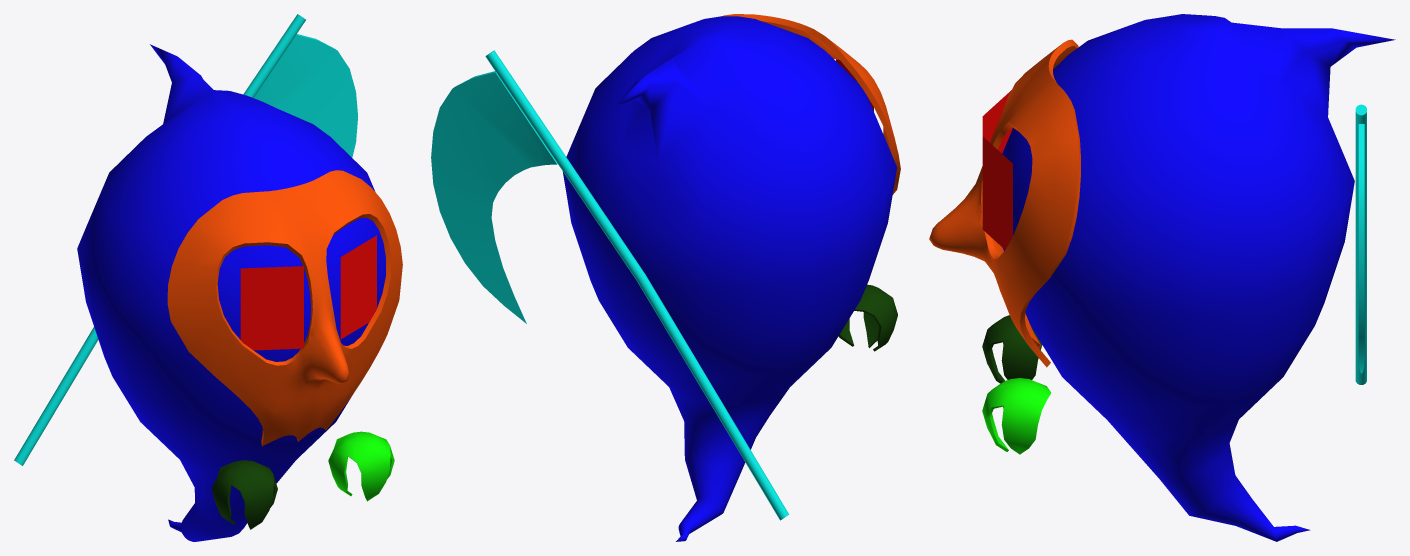
File: reaper_low.FBX
The picture shows the model from 3 angles, left to right: view 1: azimuth 30°, elevation 25°; view 2: azimuth 150°, elevation 25°; view 3: azimuth 270°, elevation 25°; orthographic projection. The views are drawn at different scales.
Parts seen in each view (by area): view 1: body_low, mask, sickle, eyes, right_low, left_low; view 2: body_low, sickle, mask, right_low; view 3: body_low, mask, eyes, left_low, sickle, right_low.
Boxes of the visible parts, bbox=[...] form: body_low: bbox=[77, 44, 385, 541]; mask: bbox=[167, 170, 402, 446]; sickle: bbox=[14, 14, 357, 465]; eyes: bbox=[240, 235, 376, 350]; right_low: bbox=[211, 460, 277, 529]; left_low: bbox=[328, 431, 394, 501]; body_low: bbox=[562, 16, 896, 541]; sickle: bbox=[431, 50, 788, 520]; mask: bbox=[722, 14, 900, 194]; right_low: bbox=[838, 284, 897, 351]; body_low: bbox=[1002, 14, 1395, 541]; mask: bbox=[929, 39, 1080, 367]; eyes: bbox=[982, 90, 1012, 249]; left_low: bbox=[982, 378, 1051, 454]; sickle: bbox=[1355, 104, 1366, 384]; right_low: bbox=[982, 315, 1042, 383].
Bounding box in the file's own units: 74.62 × 96 × 78.06.
